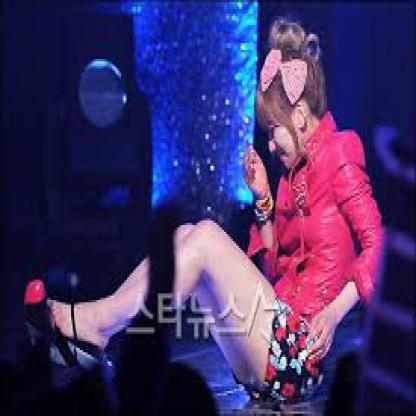Fall_Down: (45, 20, 386, 404)
